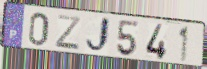0: (27, 11, 51, 48)
1: (177, 26, 193, 65)
4: (145, 23, 168, 62)
5: (115, 18, 139, 57)
J: (84, 16, 112, 56)
Z: (54, 14, 82, 52)
